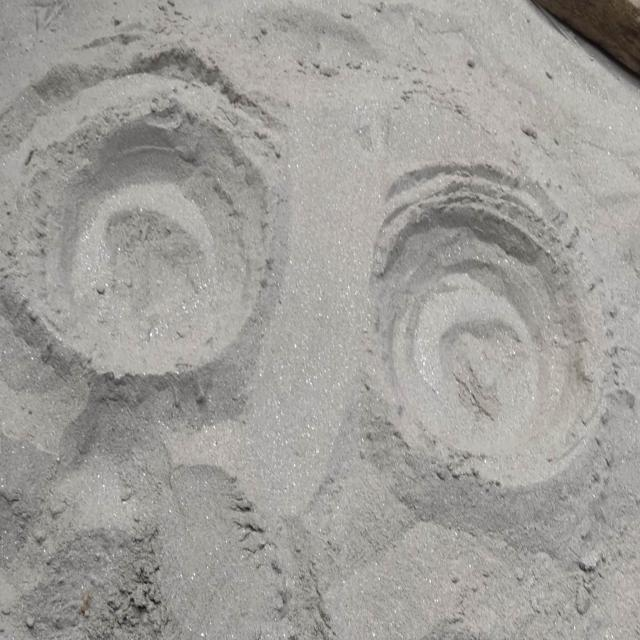C20: (368, 169, 599, 468), (27, 93, 267, 373)
